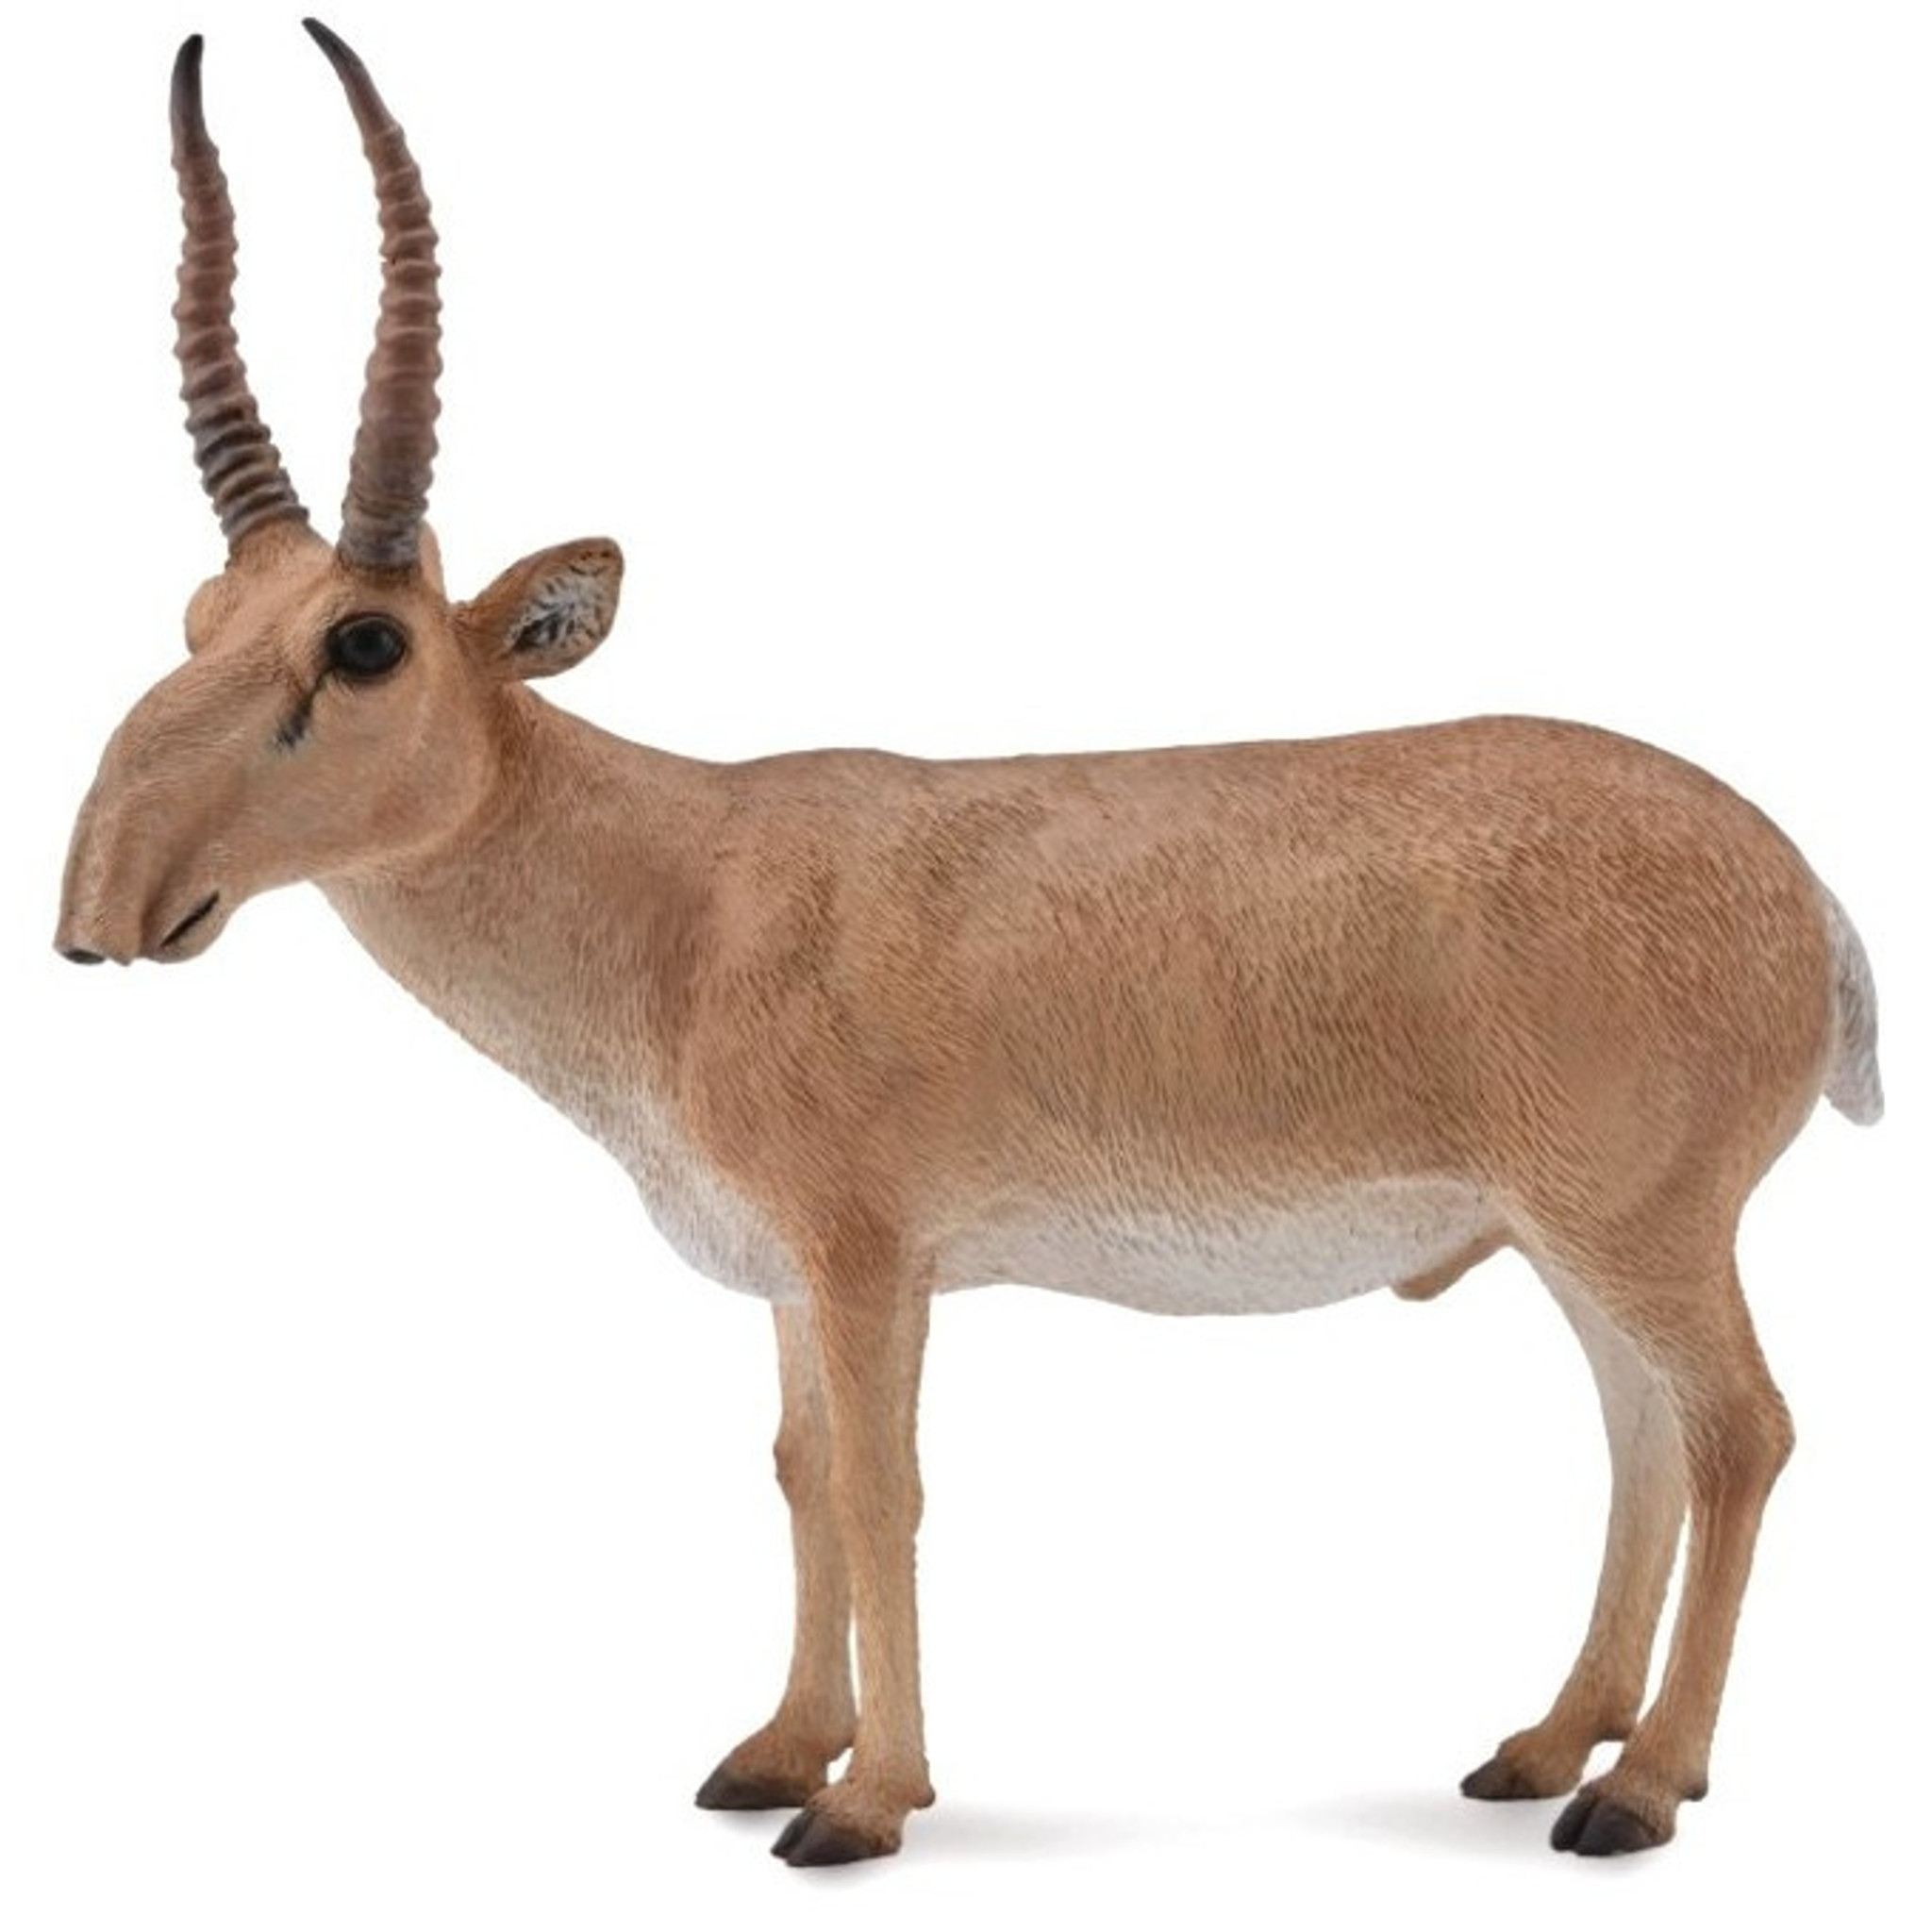saiga: (53, 14, 1897, 1897)
